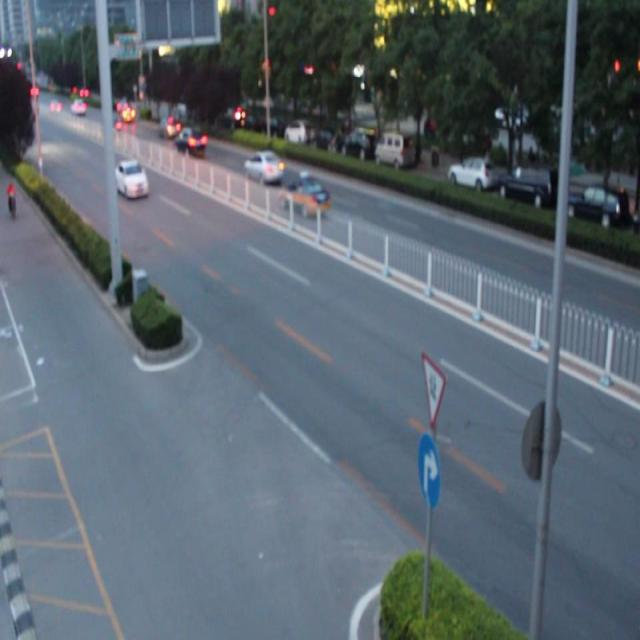car: (280, 177, 326, 214), (243, 148, 284, 186), (114, 160, 149, 196), (175, 125, 208, 161), (159, 114, 183, 141)
